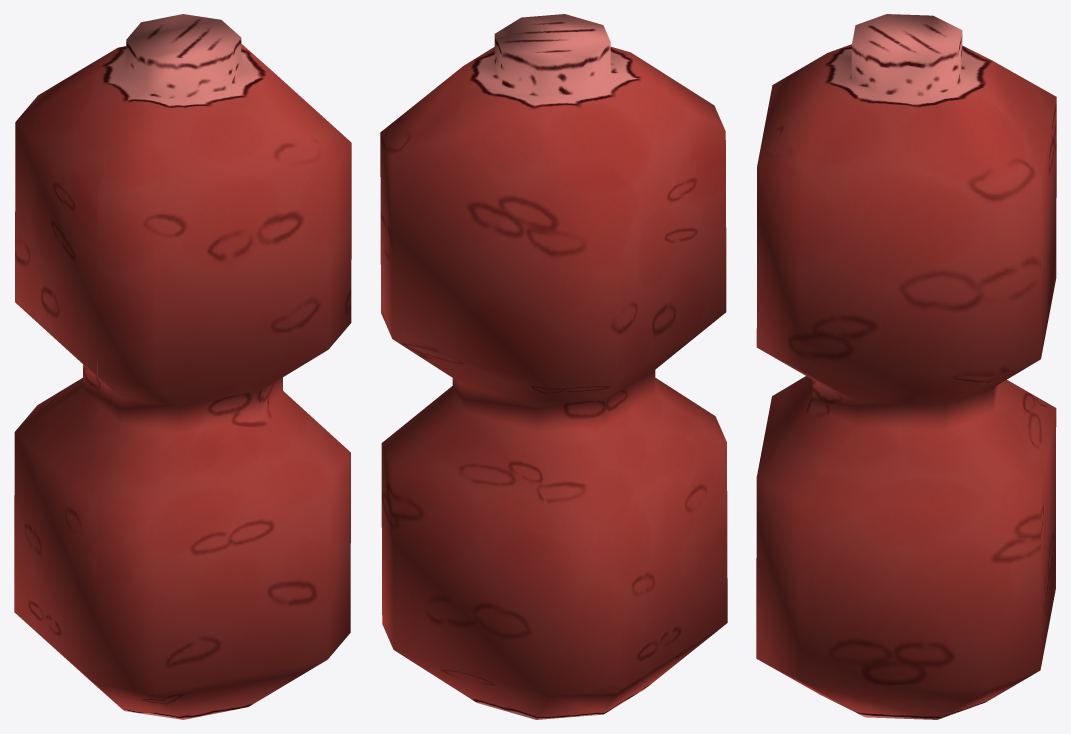
File: Corn.fbx
The picture shows the model from 3 angles, left to right: view 1: azimuth 30°, elevation 25°; view 2: azimuth 150°, elevation 25°; view 3: azimuth 270°, elevation 25°; orthographic projection.
Parts seen in each view (by area): view 1: Corn; view 2: Corn; view 3: Corn.
Boxes of the visible parts, left/top/right/bottom form: Corn: left=14, top=14, right=351, bottom=719; Corn: left=380, top=14, right=727, bottom=719; Corn: left=756, top=14, right=1056, bottom=719.
Size of the model in its own units: 3.8 by 9 by 3.78.
